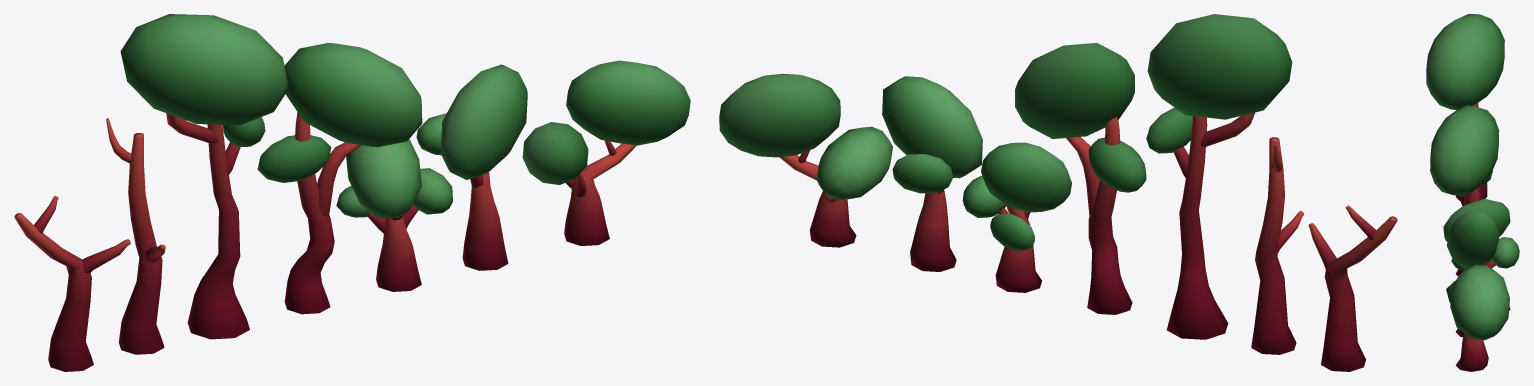
File: trees.fbx
The picture shows the model from 3 angles, left to right: view 1: azimuth 30°, elevation 25°; view 2: azimuth 150°, elevation 25°; view 3: azimuth 270°, elevation 25°; orthographic projection. The views are drawn at different scales.
Parts seen in each view (by area): view 1: tree03, tree04, tree07, tree06, tree05, tree02, tree01; view 2: tree03, tree04, tree07, tree06, tree05, tree02, tree01; view 3: tree03, tree04, tree07, tree06, tree05, tree01.
Part boxes in pixels (<box>): tree03: <box>120,14,289,339</box>; tree04: <box>257,43,422,314</box>; tree07: <box>522,60,690,245</box>; tree06: <box>416,64,527,270</box>; tree05: <box>336,139,452,291</box>; tree02: <box>106,118,165,354</box>; tree01: <box>14,195,130,371</box>; tree03: <box>1146,14,1292,339</box>; tree04: <box>1015,43,1146,314</box>; tree07: <box>719,73,892,247</box>; tree06: <box>882,76,982,271</box>; tree05: <box>962,142,1071,292</box>; tree02: <box>1251,137,1303,354</box>; tree01: <box>1308,205,1397,371</box>; tree03: <box>1426,14,1504,206</box>; tree04: <box>1430,105,1499,276</box>; tree07: <box>1446,264,1510,371</box>; tree06: <box>1446,211,1519,337</box>; tree05: <box>1443,198,1510,270</box>; tree01: <box>1455,106,1487,200</box>.
Bounding box in the file's own units: 88.22 × 39.41 × 15.69.
